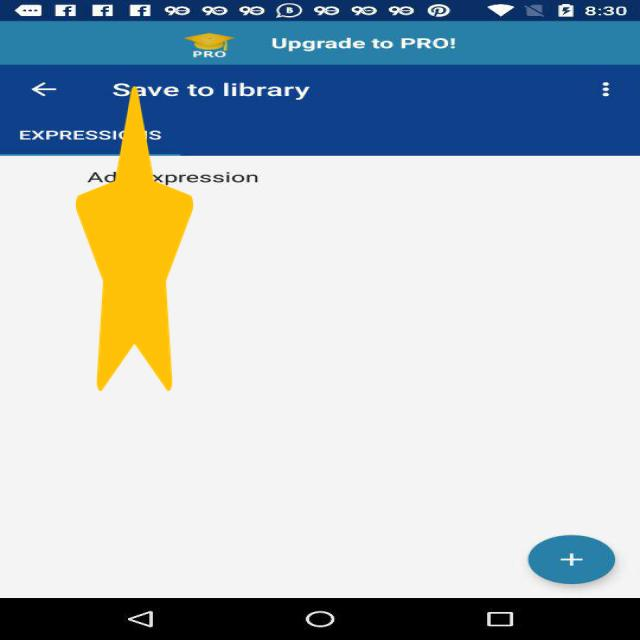forced continuity: (76, 86, 193, 391)
